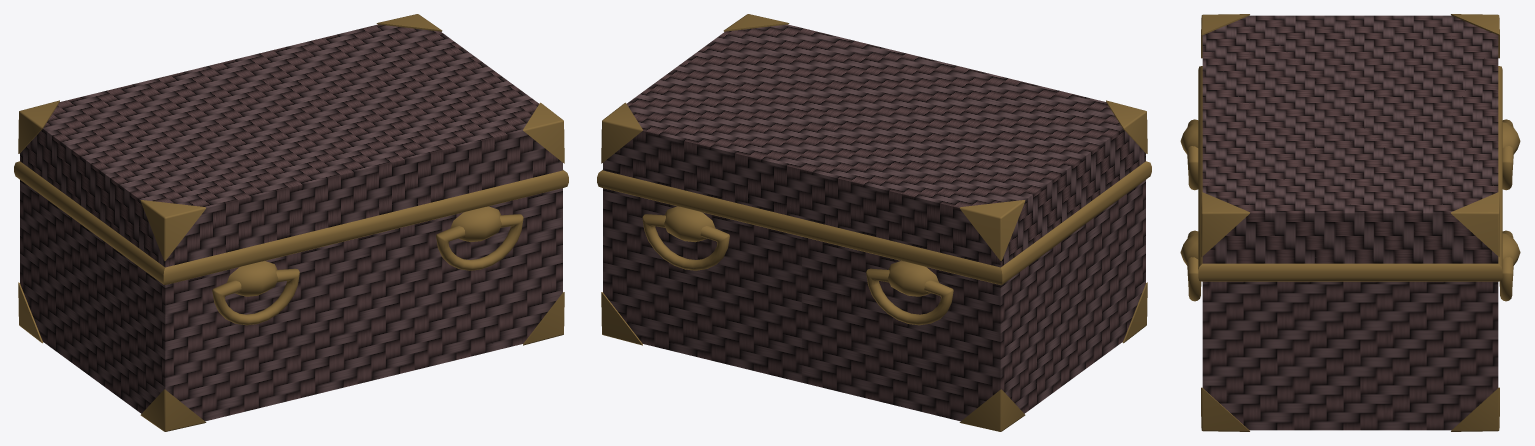
File: OT_006_storage_trunk.glb
3 renders of one model, left to right at view 1: azimuth 30°, elevation 25°; view 2: azimuth 150°, elevation 25°; view 3: azimuth 270°, elevation 25°, orthographic.
Visible parts, largest first — view 1: trunk, handles; view 2: trunk, handles; view 3: trunk, handles.
Boxes of the visible parts, x1,y1,x2,y2 form: trunk: (14,14,568,431); handles: (212,206,523,325); trunk: (597,14,1151,431); handles: (642,206,953,325); trunk: (1198,14,1502,431); handles: (1180,119,1520,301).
Bounding box in the file's own units: 1.58 × 0.8061 × 1.13.
3 materials, 2 textured.
